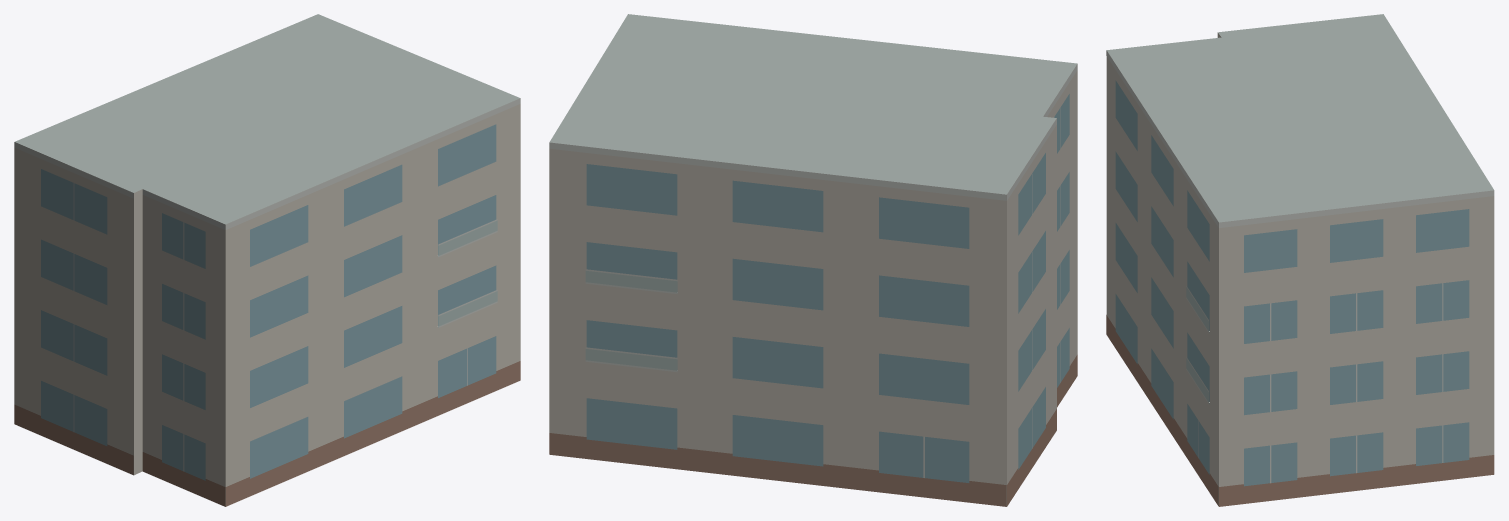
File: survey-upis-32595029.glb
3 renders of one model, left to right at view 1: azimuth 30°, elevation 25°; view 2: azimuth 150°, elevation 25°; view 3: azimuth 270°, elevation 25°, orthographic. The views are drawn at different scales.
Visible parts, largest first — view 1: survey-upis-32595029.tmp; view 2: survey-upis-32595029.tmp; view 3: survey-upis-32595029.tmp.
Boxes of the visible parts, x1,y1,x2,y2 form: survey-upis-32595029.tmp: (14, 14, 520, 506); survey-upis-32595029.tmp: (549, 14, 1077, 506); survey-upis-32595029.tmp: (1106, 14, 1494, 506).
Size of the model in its own units: 19.2 by 12.2 by 15.09.
